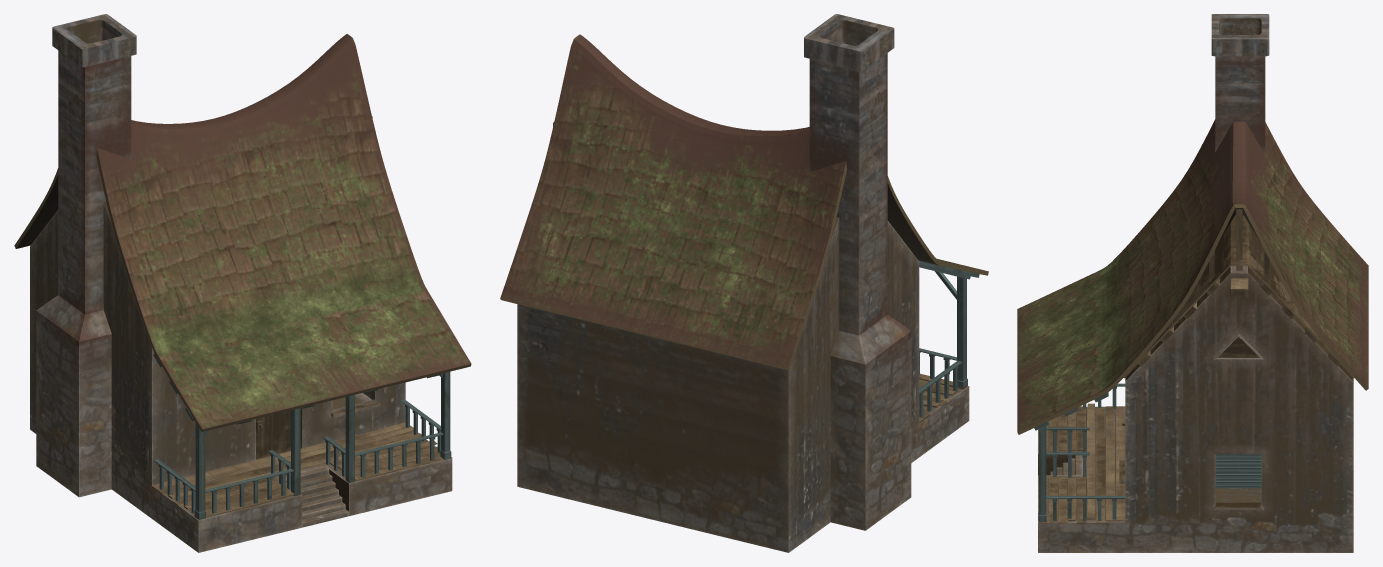
Rendered from cabin.fbx.
3 renders of one model, left to right at view 1: azimuth 30°, elevation 25°; view 2: azimuth 150°, elevation 25°; view 3: azimuth 270°, elevation 25°, orthographic. The views are drawn at different scales.
Parts seen in each view (by area): view 1: house; view 2: house; view 3: house.
Part boxes in pixels (<box>): house: <box>14,14,471,552</box>; house: <box>500,14,988,552</box>; house: <box>1017,14,1368,552</box>.
Size of the model in its own units: 2805 by 3815 by 2948.
